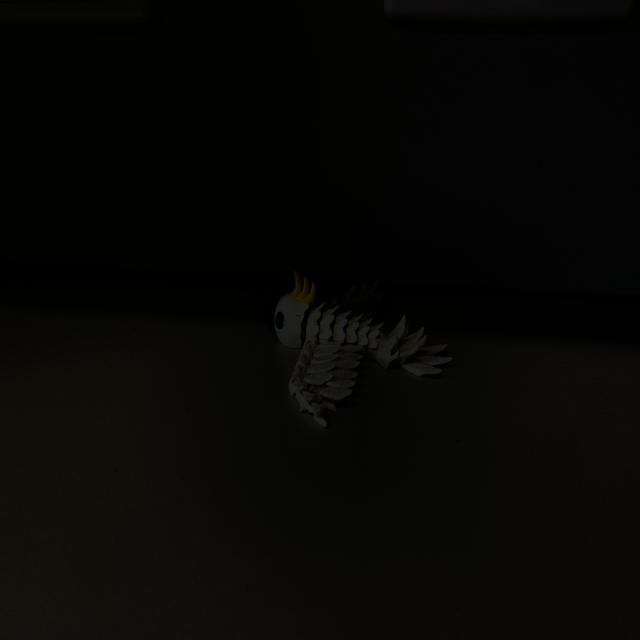cockatoo: (272, 262, 453, 427)
